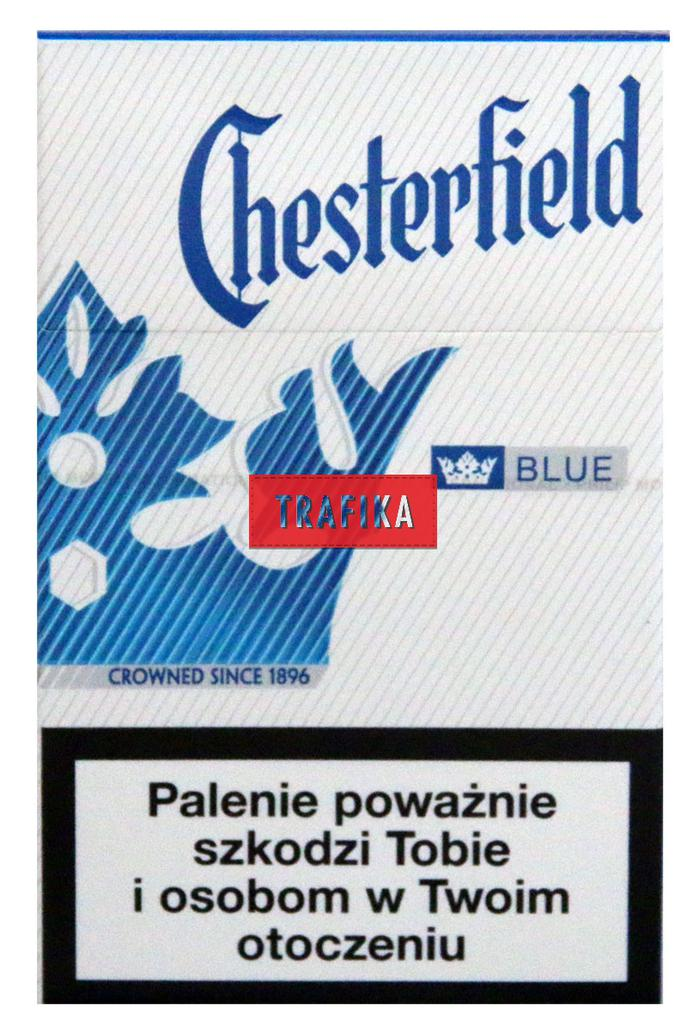chesterfield_blue: (38, 33, 658, 1005)
